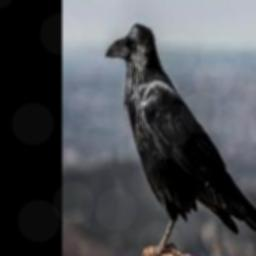Crow: (105, 22, 256, 256)
